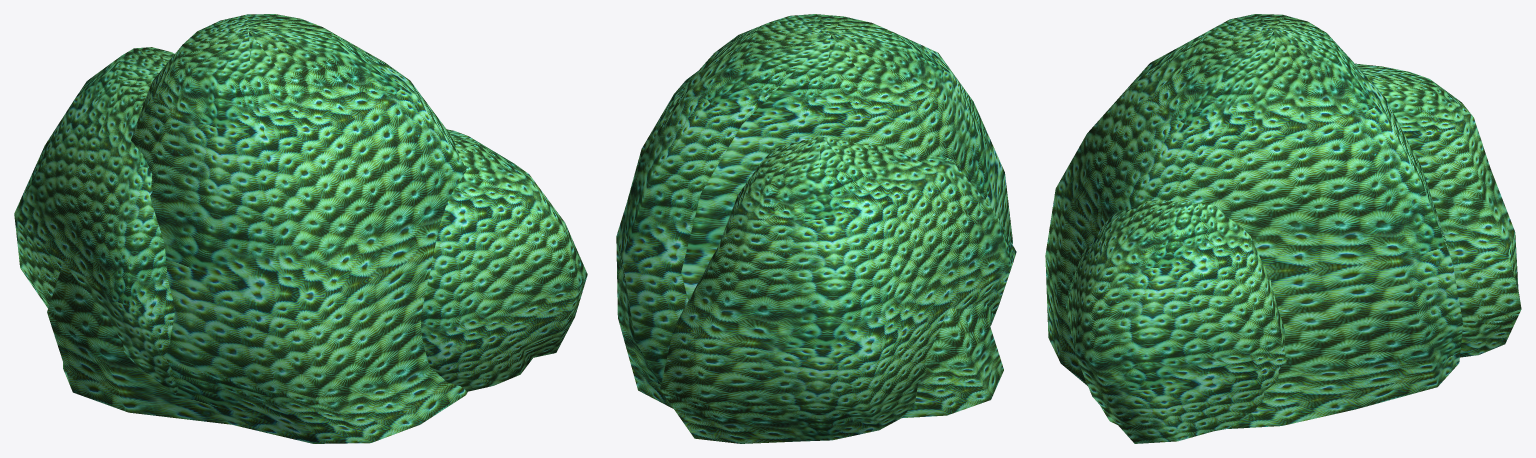
File: SG_envProp_Coral1v4.FBX
3 renders of one model, left to right at view 1: azimuth 30°, elevation 25°; view 2: azimuth 150°, elevation 25°; view 3: azimuth 270°, elevation 25°, orthographic. The views are drawn at different scales.
Visible parts, largest first — view 1: SG_envProp_Coral1v4; view 2: SG_envProp_Coral1v4; view 3: SG_envProp_Coral1v4.
Part boxes in pixels (x1=…): SG_envProp_Coral1v4: x1=14, y1=14, x2=587, y2=443; SG_envProp_Coral1v4: x1=616, y1=14, x2=1016, y2=443; SG_envProp_Coral1v4: x1=1045, y1=14, x2=1521, y2=443.
Bounding box in the file's own units: 0.301 × 0.2265 × 0.319.
